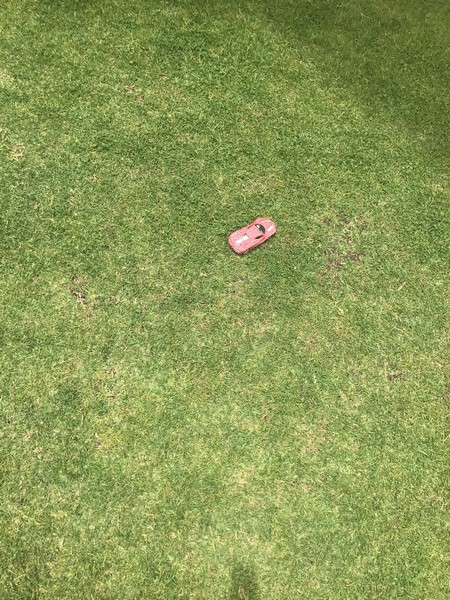RC: (227, 214, 278, 256)
